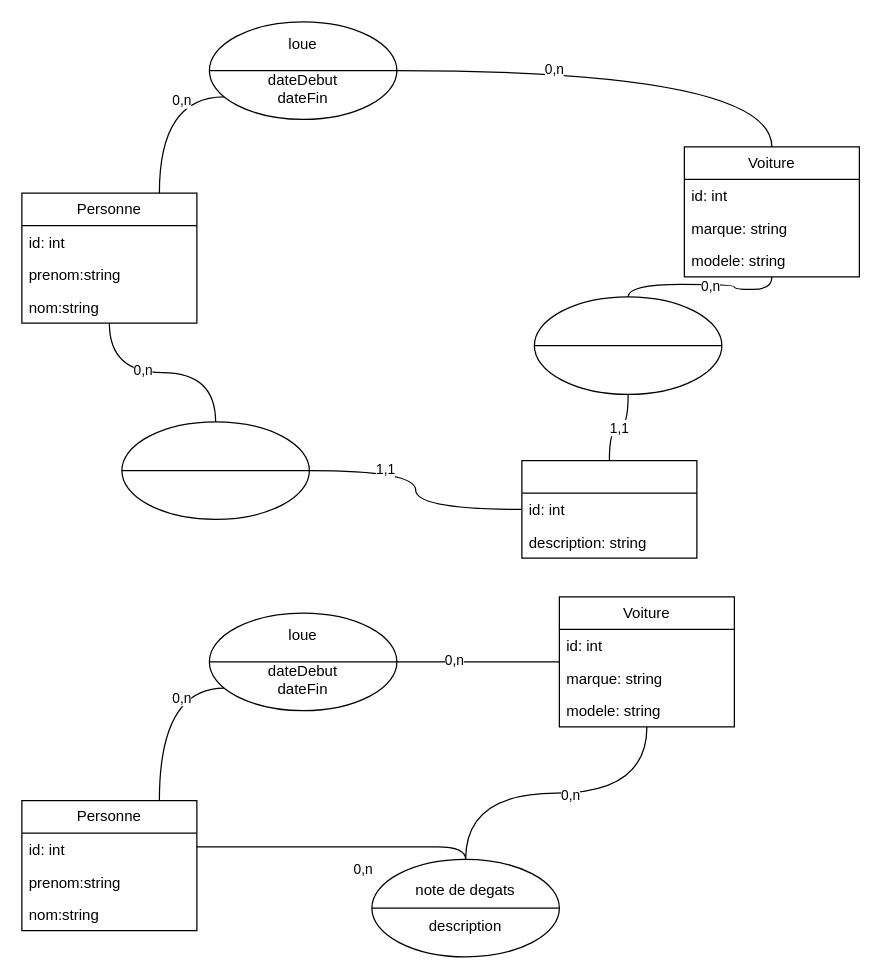
The diagram is 881 pixels wide and 979 high, and some of its shapes have lost their labels. Each missing label, with the box of its shape:
Degat: (521, 459, 697, 558)
note: (121, 421, 309, 519)
subit: (533, 296, 722, 394)
